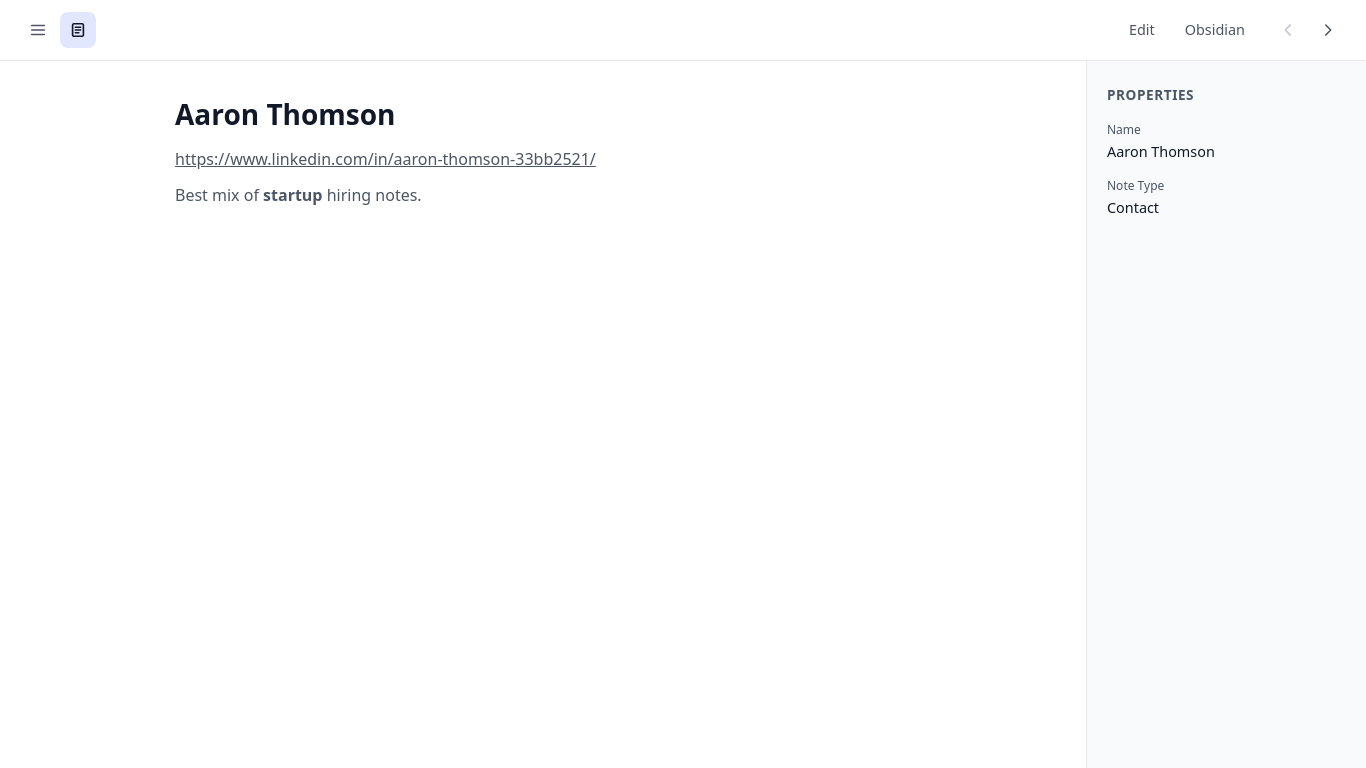
it: edits and saves contact markdown
expect the heading "Aaron Thomson" is shown: met, box [175,95,396,133]
Click the button with aria-label "Edit markdown". click: (1142, 30)
box: [1116,12,1168,48]
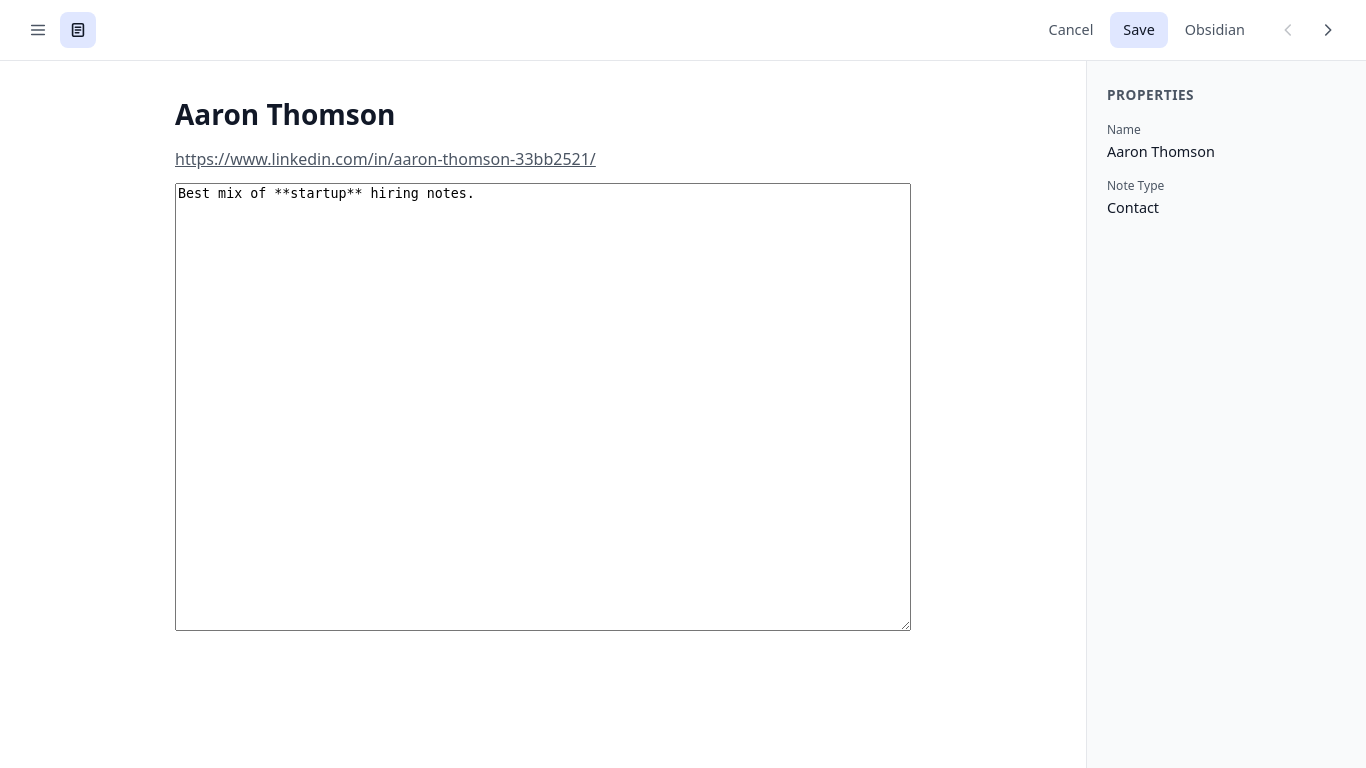
Replace the text in the text box named "Markdown" with "Worked together at **Acme**.". click: (543, 407)
box: [175,183,911,631]
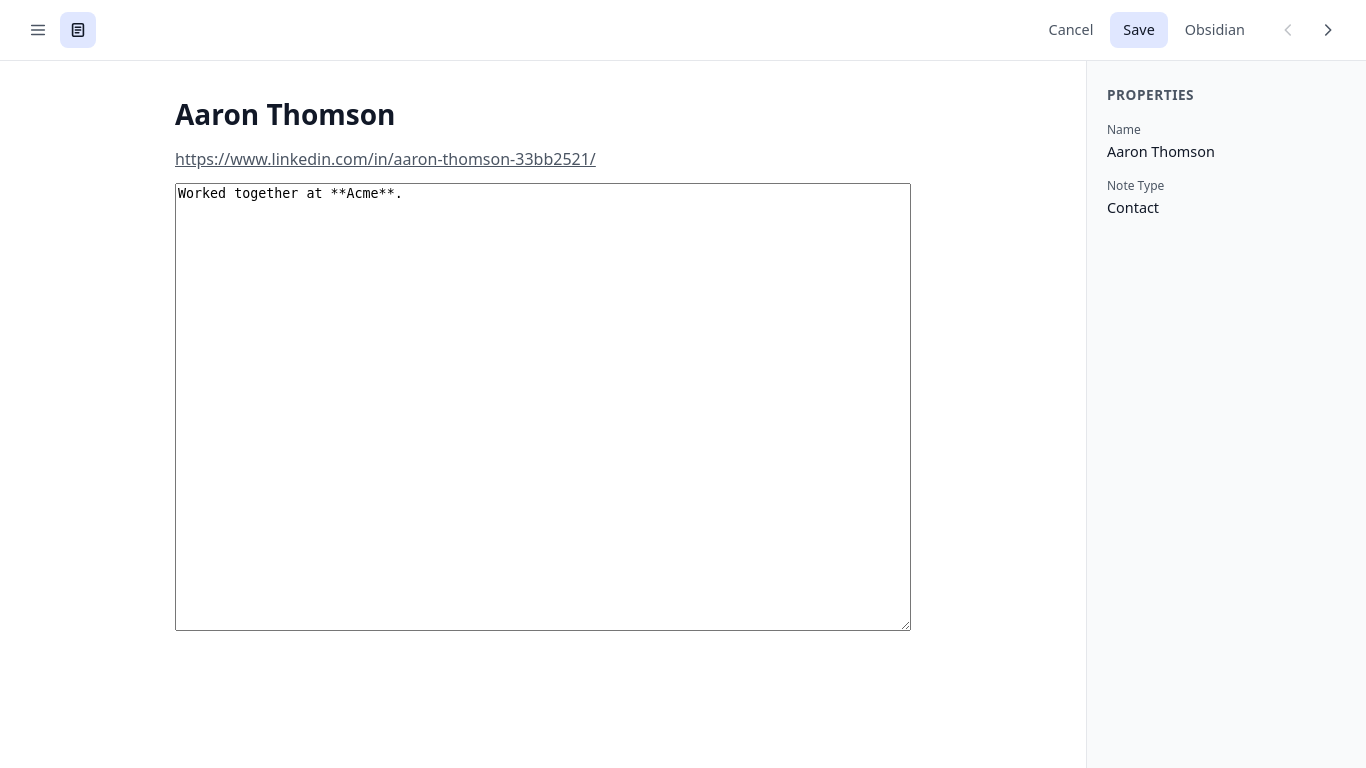
Click the button with aria-label "Save markdown". click: (1139, 30)
box: [1110,12,1168,48]
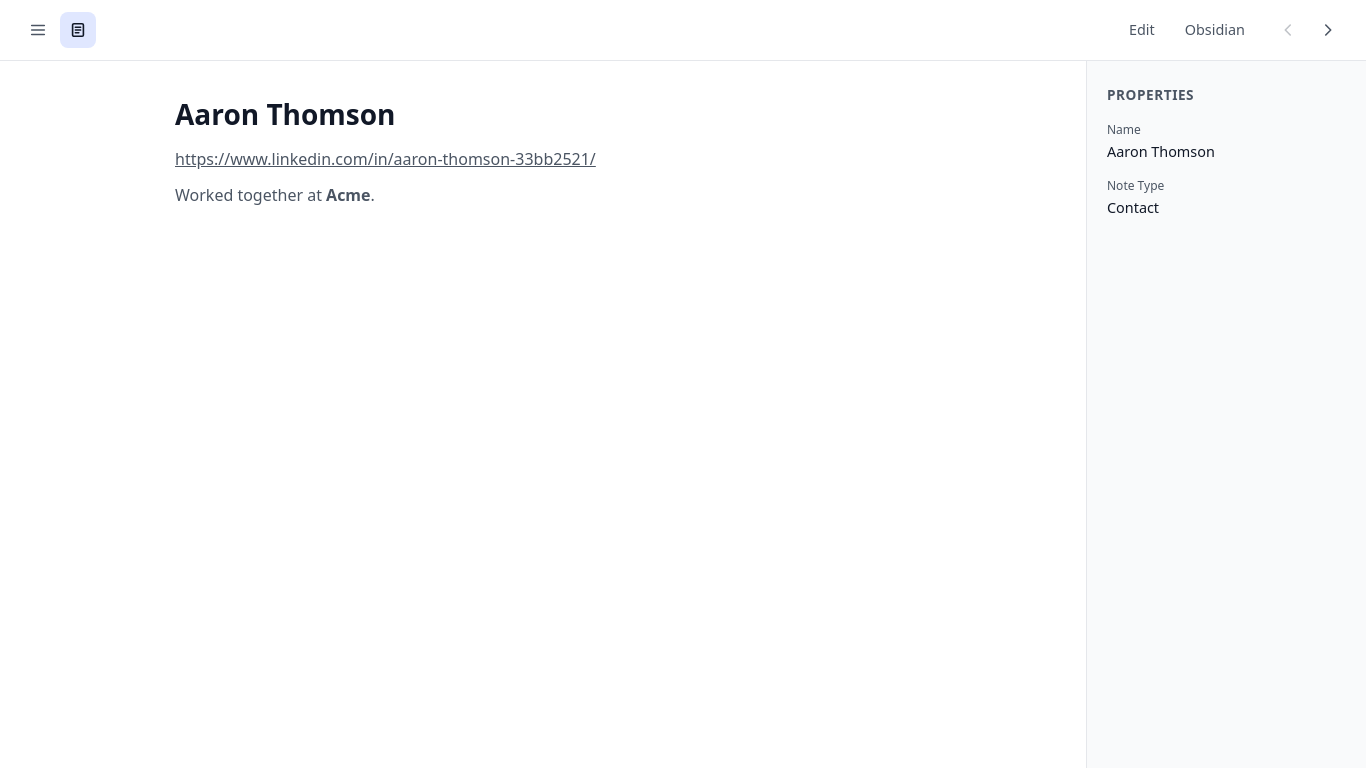
expect the text "Worked together at Acme." is shown: met, box [175,184,375,206]
